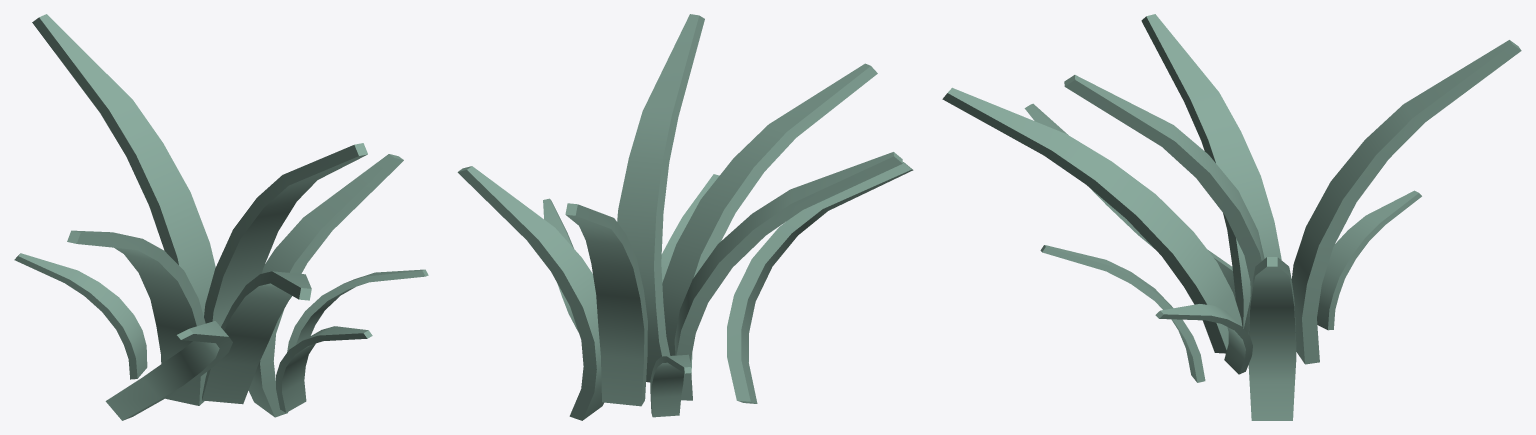
File: SM_GrassTuft2.fbx
3 renders of one model, left to right at view 1: azimuth 30°, elevation 25°; view 2: azimuth 150°, elevation 25°; view 3: azimuth 270°, elevation 25°, orthographic. The views are drawn at different scales.
Visible parts, largest first — view 1: GrassTuft2; view 2: GrassTuft2; view 3: GrassTuft2.
Boxes of the visible parts, bbox=[...] form: GrassTuft2: bbox=[14, 14, 428, 420]; GrassTuft2: bbox=[457, 14, 913, 420]; GrassTuft2: bbox=[942, 14, 1521, 420].
Bounding box in the file's own units: 20.78 × 17.09 × 26.68.
